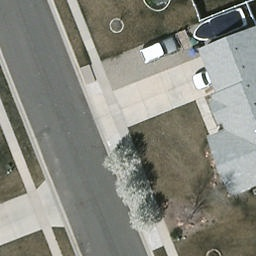boat: (188, 6, 250, 45)
car: (135, 35, 182, 63), (190, 62, 233, 89)
